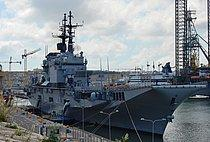MIL_Ship: (26, 12, 205, 134)
